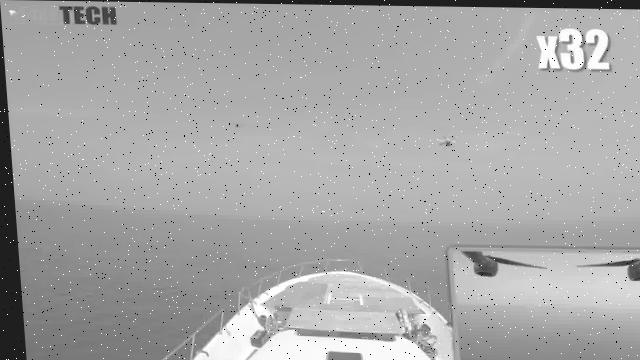drone: (219, 113, 261, 136)
